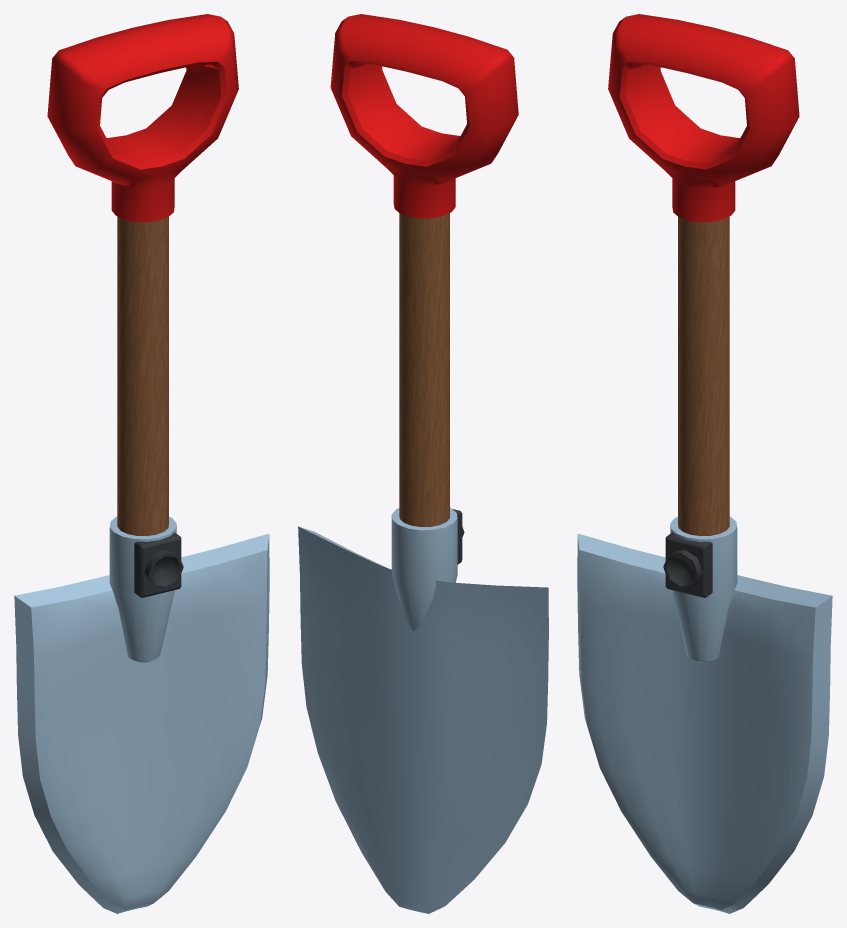
File: SM_Shovel.fbx
The picture shows the model from 3 angles, left to right: view 1: azimuth 30°, elevation 25°; view 2: azimuth 150°, elevation 25°; view 3: azimuth 330°, elevation 25°; orthographic projection.
Visible parts, largest first — view 1: head_shovel, handle, collar; view 2: head_shovel, handle, collar; view 3: head_shovel, handle, collar.
Part boxes in pixels (x1,y1,x2,y2): head_shovel: [14, 533, 269, 913]; handle: [47, 14, 238, 535]; collar: [109, 516, 183, 662]; head_shovel: [298, 526, 548, 913]; handle: [330, 14, 518, 526]; collar: [391, 507, 464, 630]; head_shovel: [577, 533, 832, 913]; handle: [608, 14, 799, 536]; collar: [663, 516, 737, 662].
Size of the model in its own units: 42.18 by 140 by 12.14.
1 material, 1 textured.
